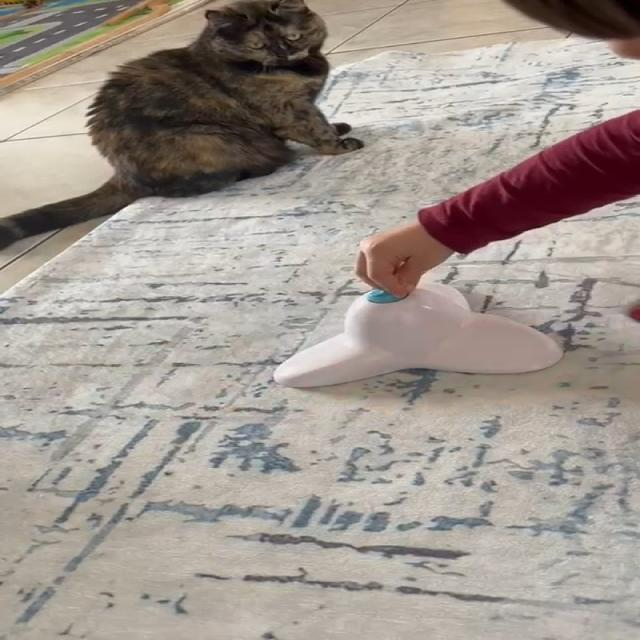authorized: (0, 0, 364, 252)
